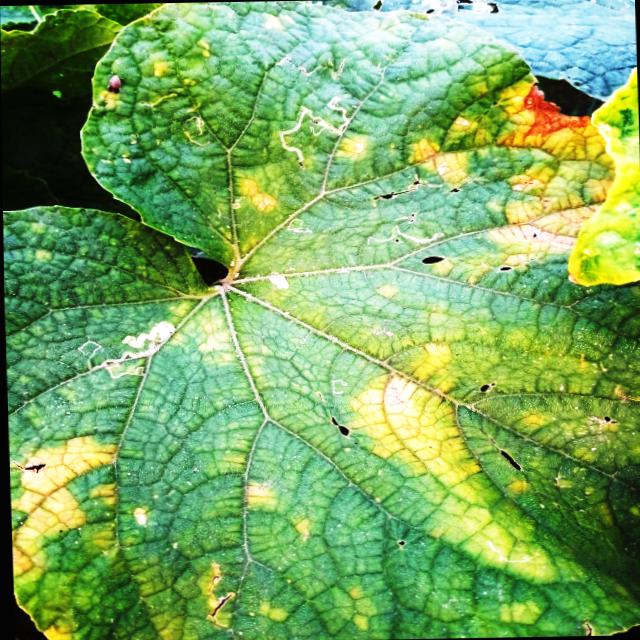Downy-Mildew: (2, 4, 640, 640)
